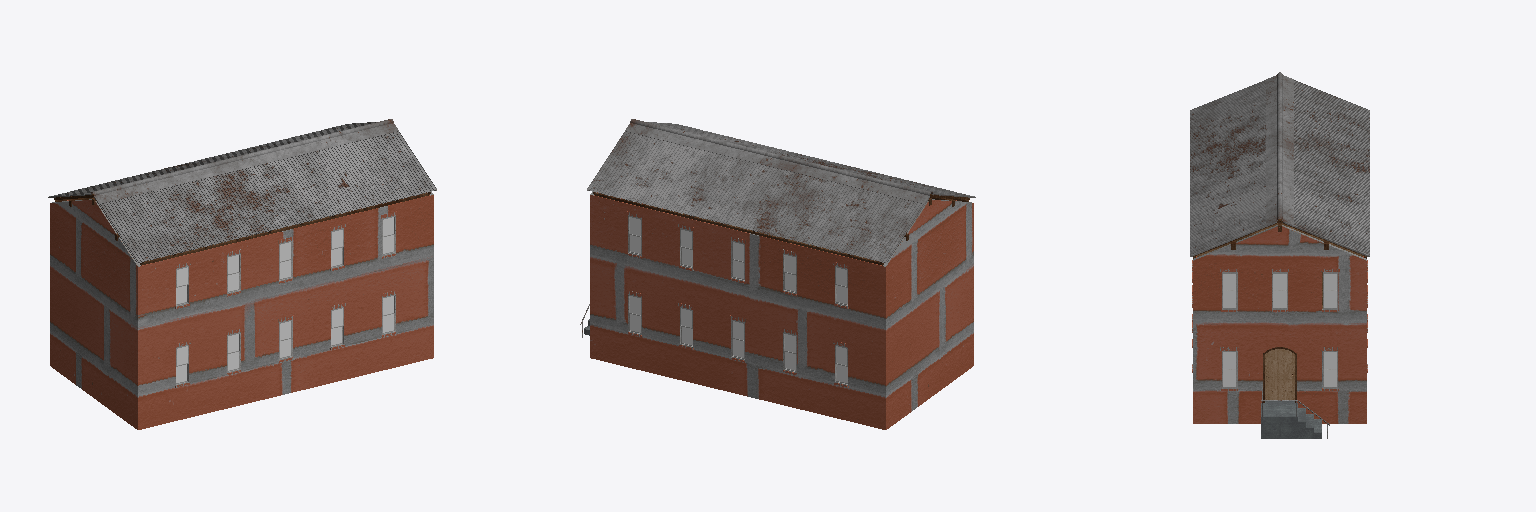
3 renders of one model, left to right at view 1: azimuth 30°, elevation 25°; view 2: azimuth 150°, elevation 25°; view 3: azimuth 270°, elevation 25°, orthographic.
Visible parts, largest first — view 1: brickwalls, roof, windows, wood; view 2: brickwalls, roof, windows, wood; view 3: roof, brickwalls, windows, ground, door, wood.
Part boxes in pixels (x1,y1,x2,y2): brickwalls: (50, 191, 433, 429); roof: (48, 119, 436, 263); windows: (175, 195, 414, 387); wood: (54, 192, 430, 265); brickwalls: (590, 191, 973, 429); roof: (587, 119, 975, 263); windows: (609, 195, 848, 387); wood: (593, 192, 969, 265); roof: (1190, 72, 1369, 256); brickwalls: (1193, 225, 1366, 423); windows: (1192, 260, 1367, 390); ground: (1261, 351, 1322, 438); door: (1265, 349, 1294, 399); wood: (1193, 219, 1366, 402).
Bounding box in the file's own units: 35.63 × 21.62 × 16.99.
11 materials, 10 textured.